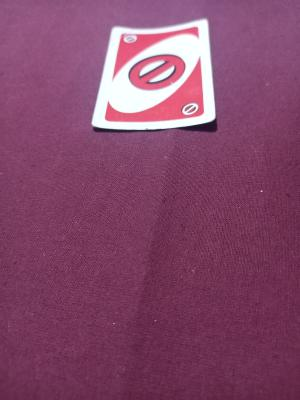skip: (124, 50, 188, 93), (177, 98, 202, 120), (120, 29, 142, 47)
